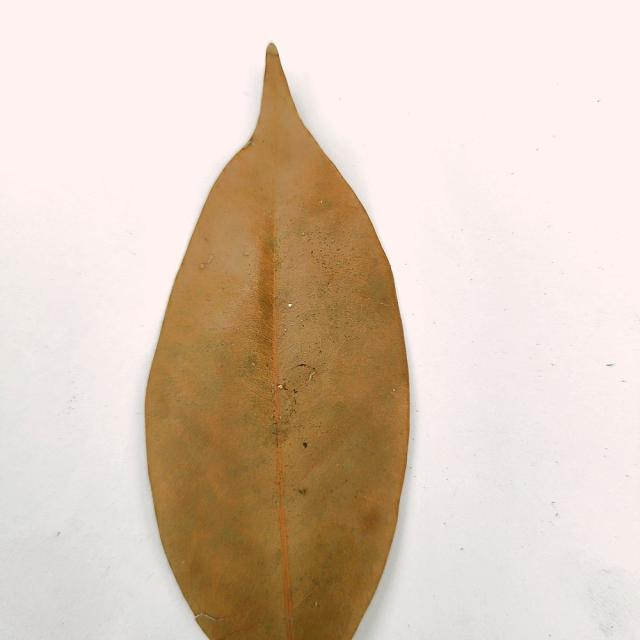Dry_Leaf-Lychee: (143, 45, 412, 639)
